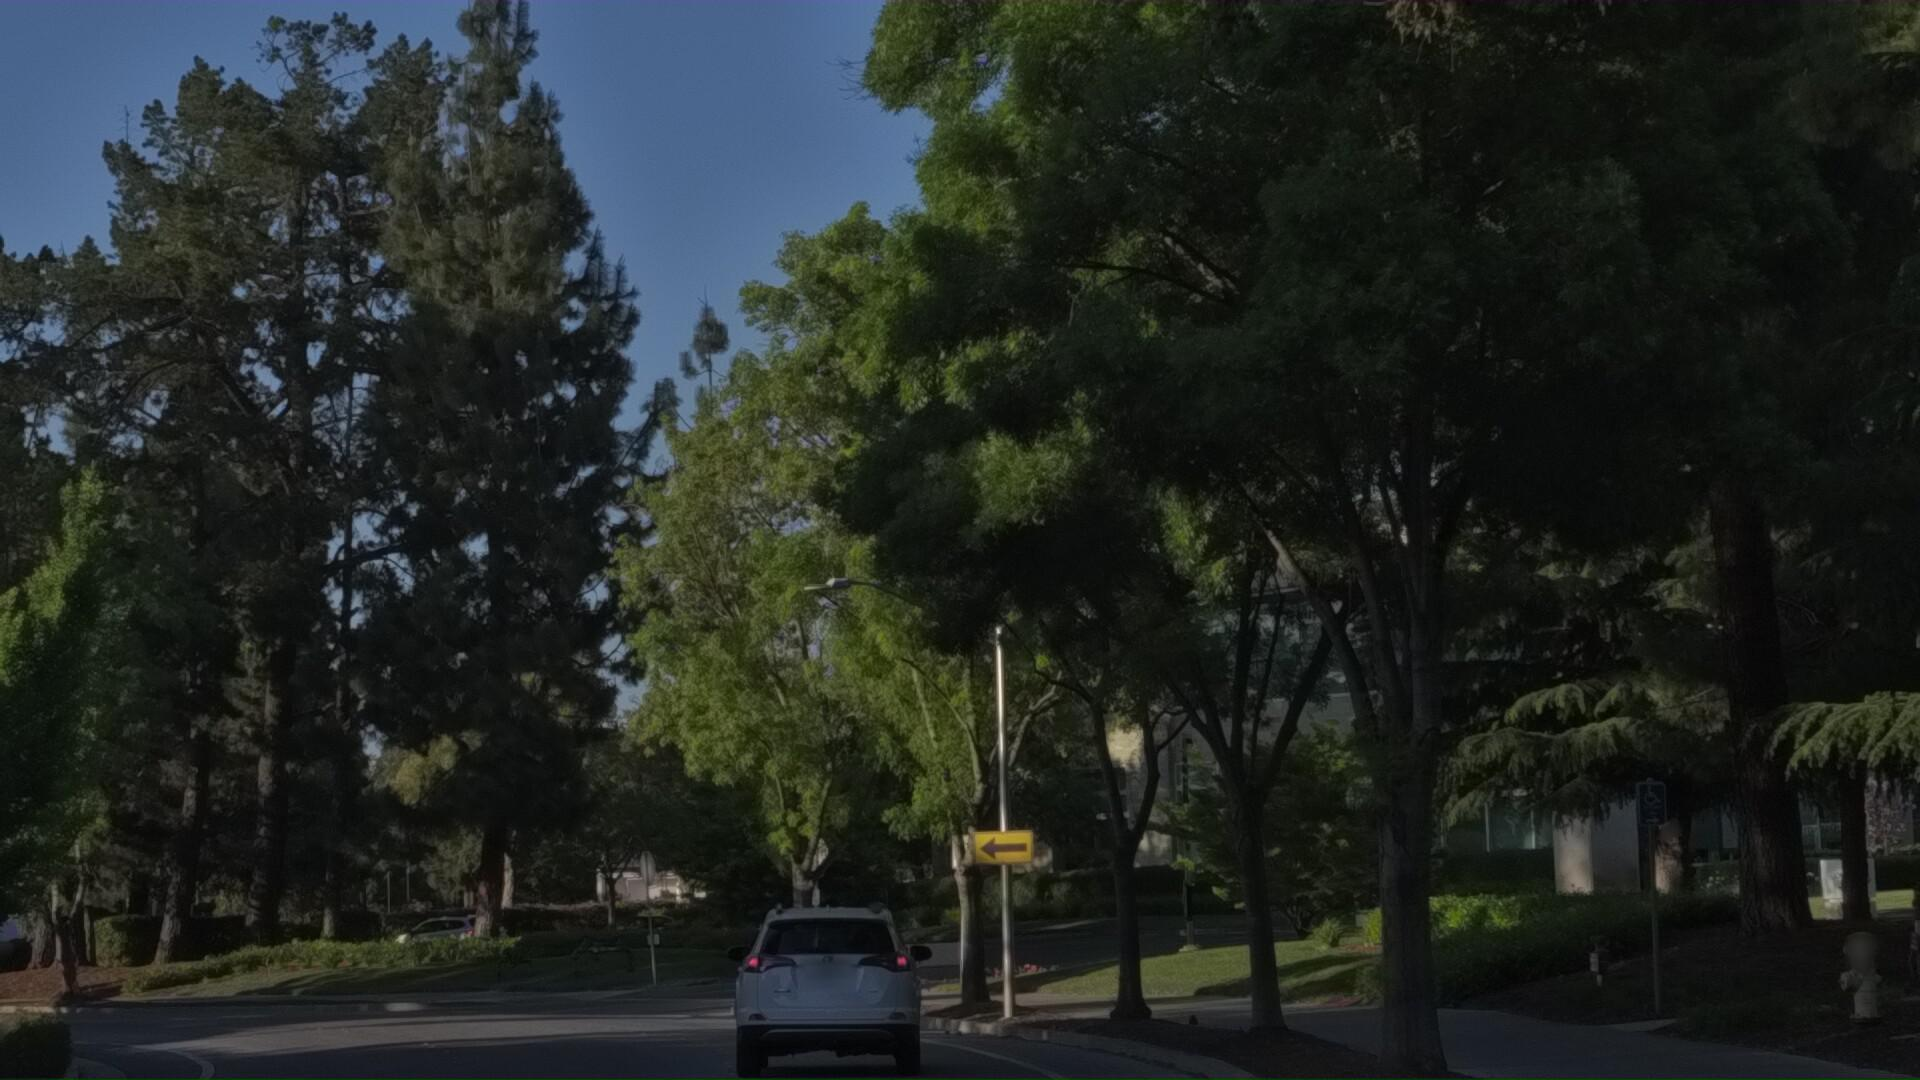car: (717, 971, 938, 1080)
